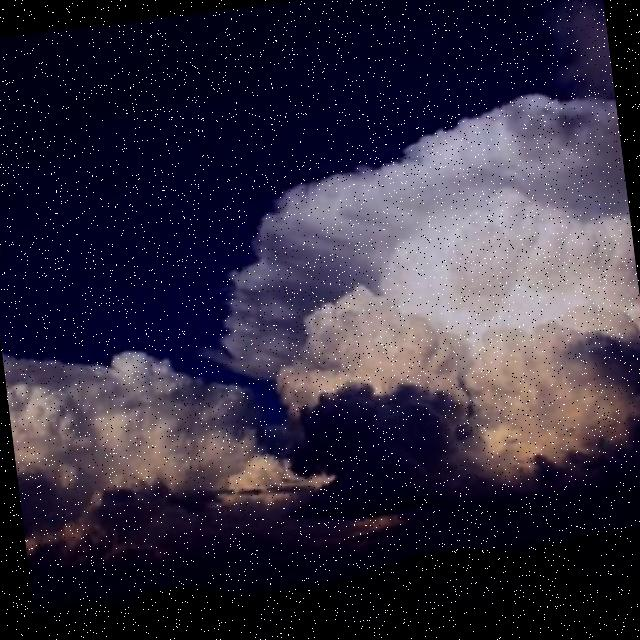Cb: (1, 5, 640, 569)
